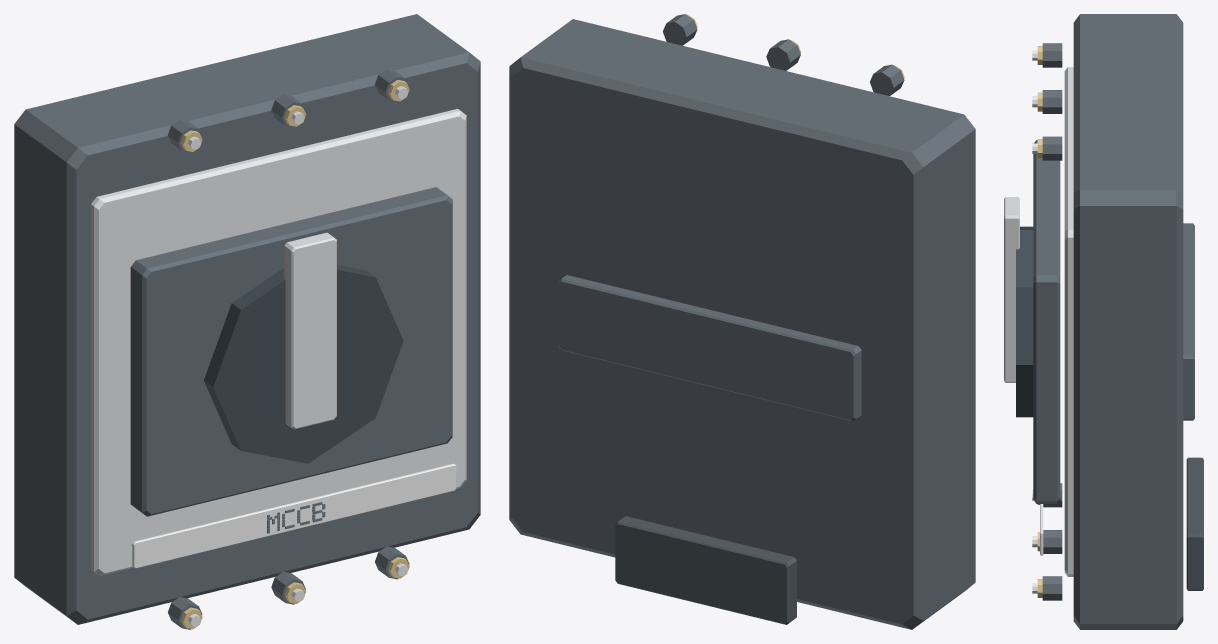
Rendered from mccb3P.glb.
3 views of the same model, side by side, from view 1: azimuth 30°, elevation 25°; view 2: azimuth 150°, elevation 25°; view 3: azimuth 270°, elevation 25° (orthographic). The views are drawn at different scales.
Visible parts, largest first — view 1: mccb3P-board; view 2: mccb3P-board; view 3: mccb3P-board.
Boxes of the visible parts, x1=… form: mccb3P-board: x1=14, y1=14, x2=480, y2=629; mccb3P-board: x1=509, y1=14, x2=975, y2=629; mccb3P-board: x1=1004, y1=14, x2=1203, y2=629.
Bounding box in the file's own units: 3.29 × 3.82 × 1.49.
